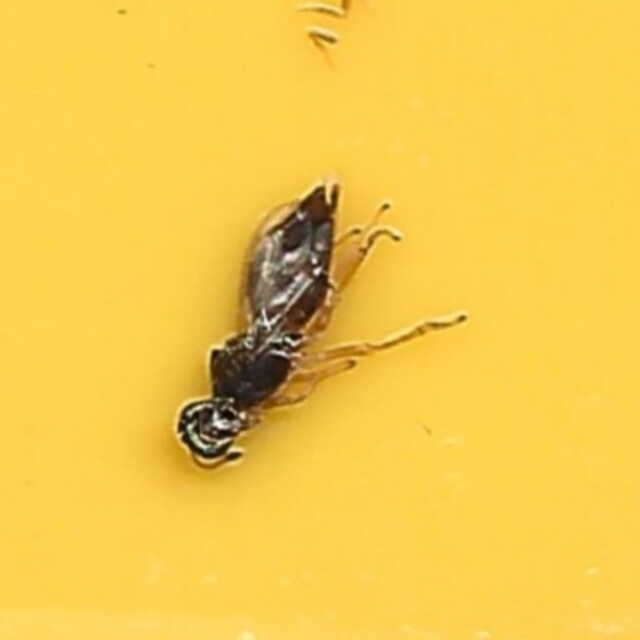Hymenoptera: (173, 174, 467, 466)
